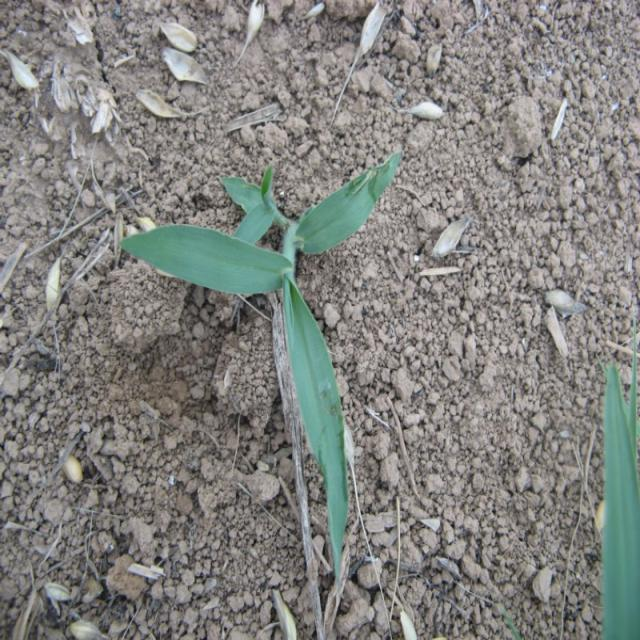bg: (124, 145, 403, 580)
